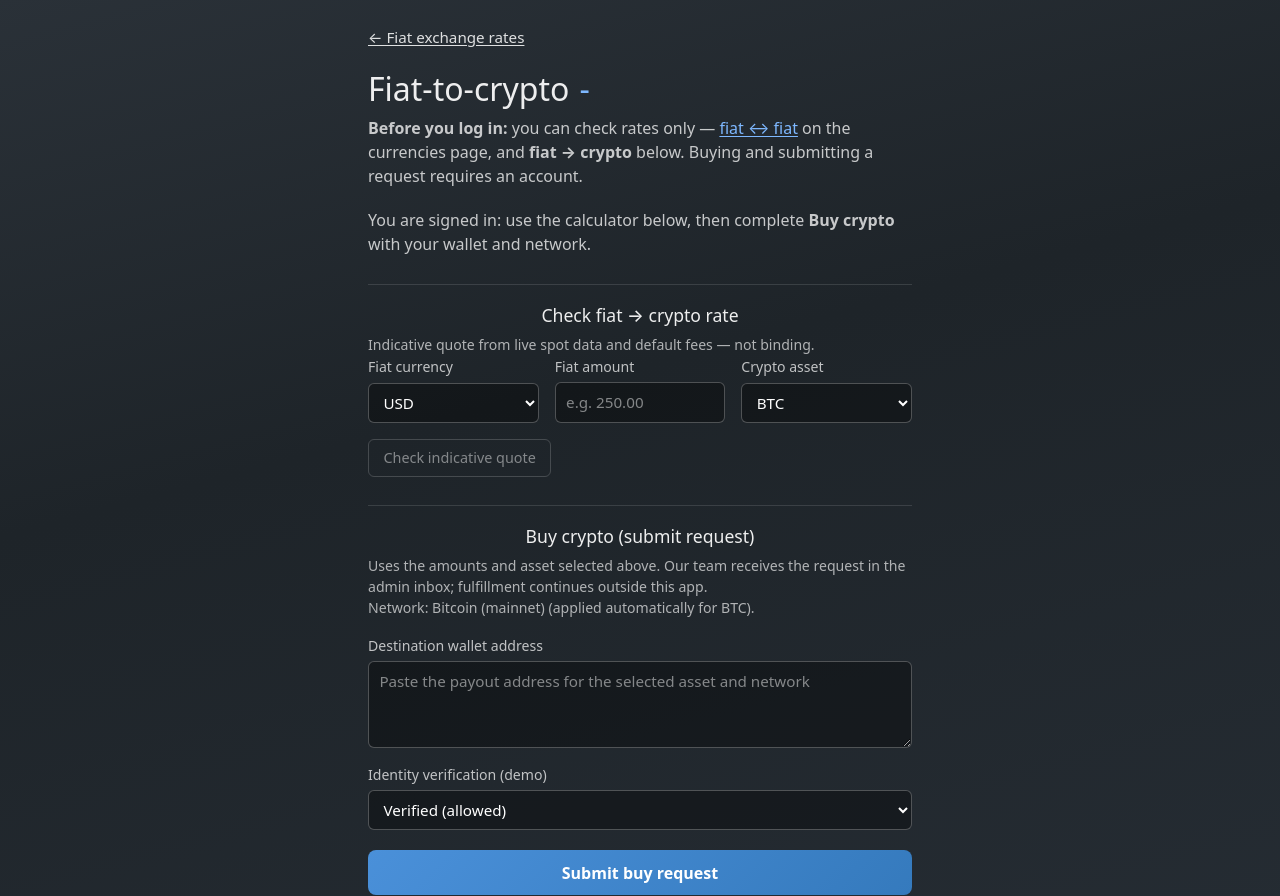
Test: FiatToCryptoRequestForm (FCX-40) › blocks submission with the same client validation as the server when the amount is invalid
The width and height of the screenshot is (1280, 896).
In the field named "Fiat amount for quote": x=640, y=403 [555,382,725,423], type "not-a-number"
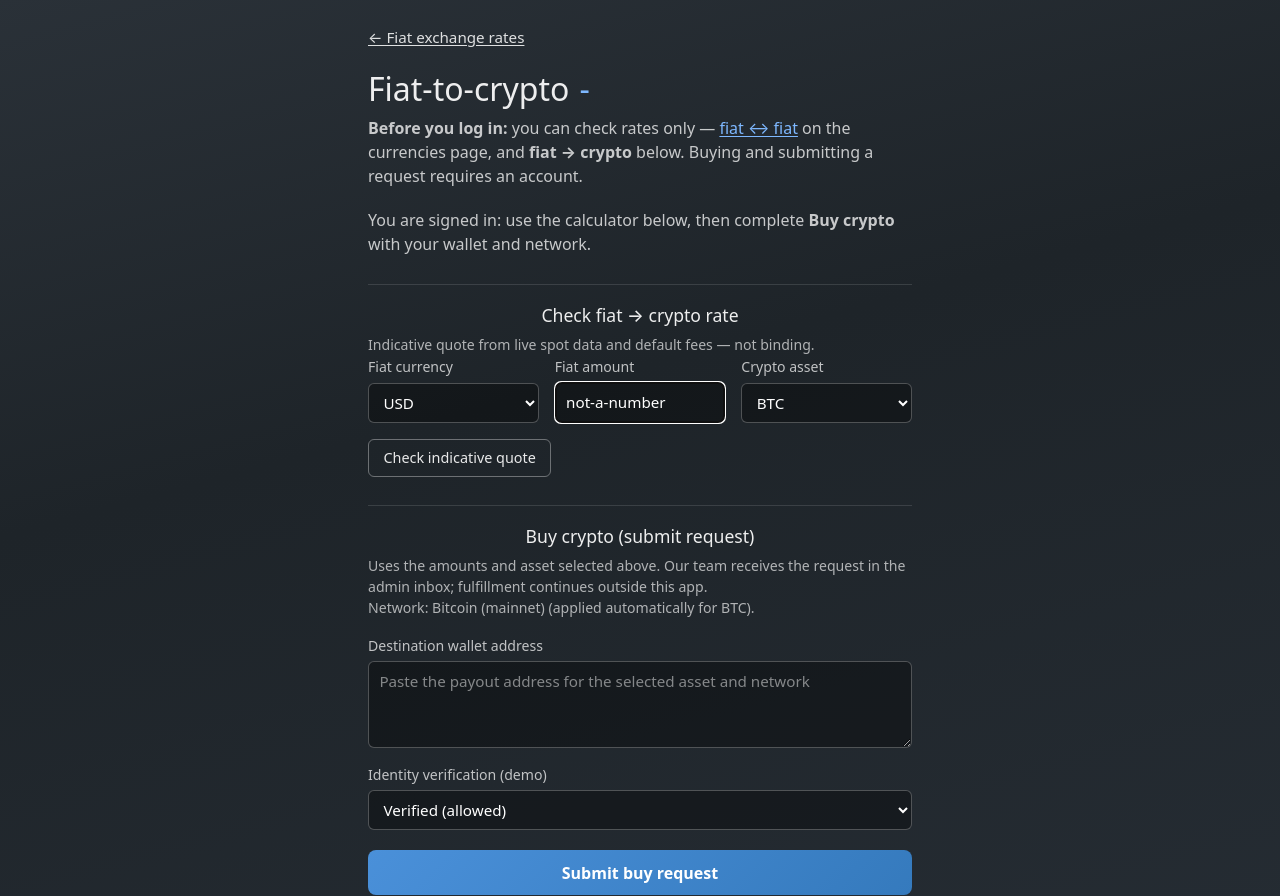
In the text box labelled "Destination wallet address": x=640, y=704 [368,661,912,748], type "bc1qxy2kgdygjrsqtzq2n0yrf2493p83kkfjhx0wlh"
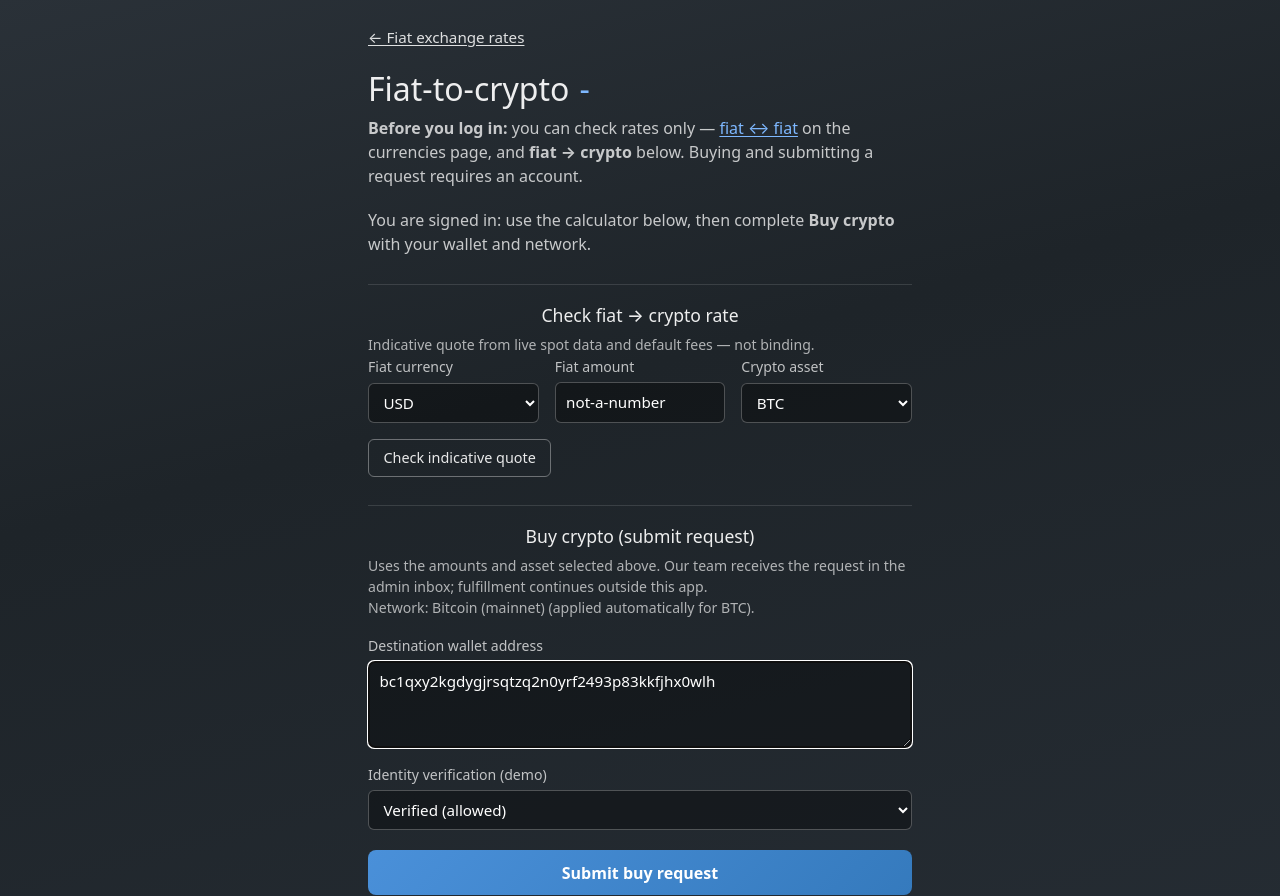
Click the button "Submit buy request": x=640, y=873 [368,850,912,895]
(page scrolled)
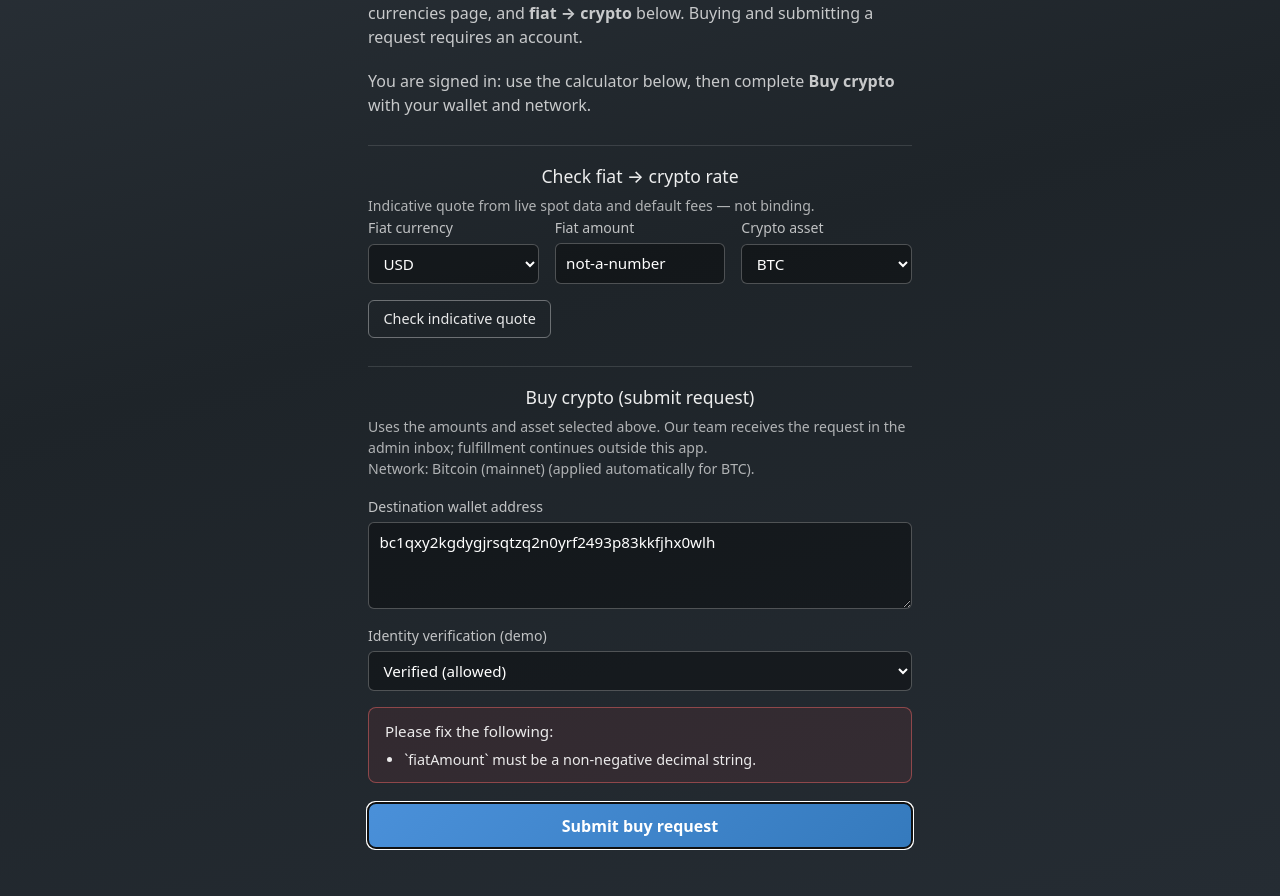
Result: the message "Please fix the following: `fiatAmount` must be a non-negative decimal string." is shown at [368,707,912,783]
